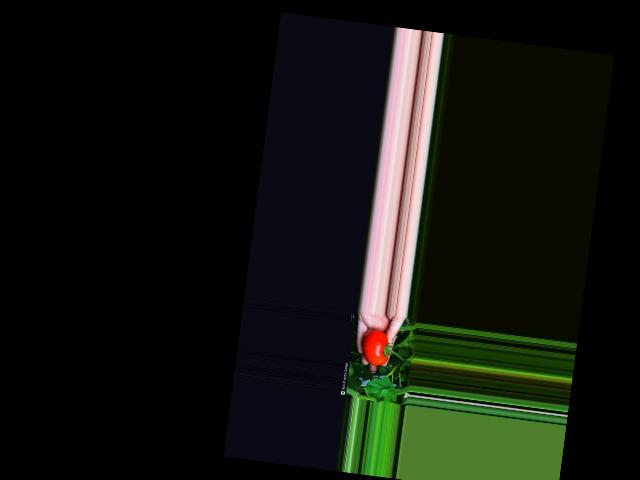tomato: (359, 327, 391, 366)
